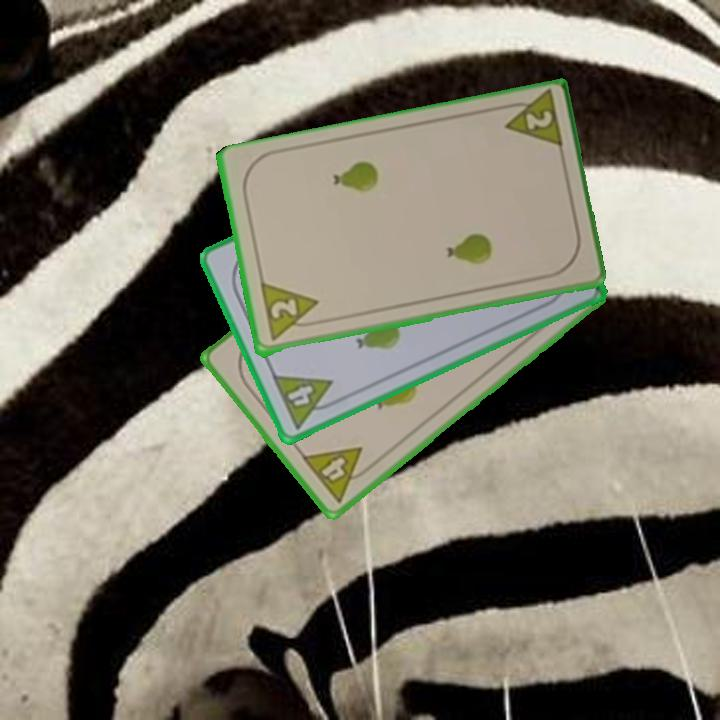2p: (496, 90, 566, 154), (256, 281, 324, 345)
4p: (298, 443, 378, 506), (268, 371, 344, 432)
